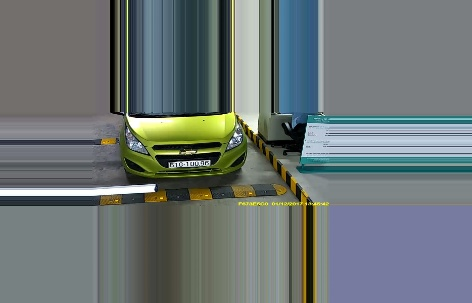plate: (167, 159, 211, 168)
